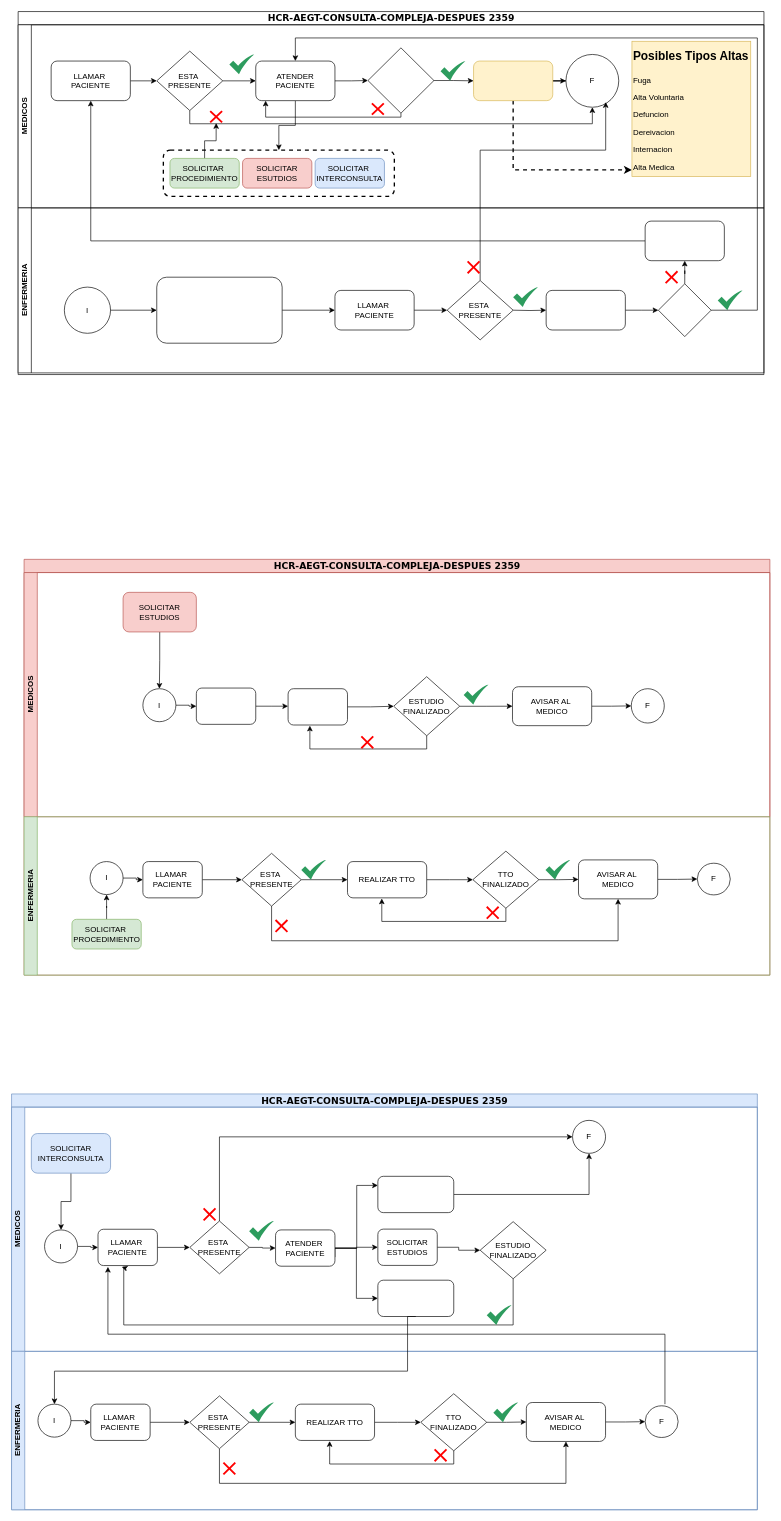
Some shapes in this 781 by 1521 pixel diagram are drawn without their labels. The shapes that lost their labels are listed below. From the top down, each one's box as (x1, y1, x2, y2) in pixels, then its label:
(367, 47, 434, 113): FINALIZA ATENCIÓN
(473, 60, 553, 101): FINALIZAR ATENCIÓN
(644, 220, 724, 261): ESPERAR ATENCION MEDICA
(156, 277, 282, 343): RECEPCIONAR PACIENTES ANOTAR MOTIVO DE CONSULTA REFERIDO POR EL PACIENTE
(545, 290, 625, 330): REALIZAR TRIAJE
(658, 283, 711, 337): Shocroom
(196, 687, 256, 724): SOLICITAR ESTUDIO
(287, 688, 347, 725): ESPERAR ESTUDIO
(377, 1176, 454, 1213): FINALIZA INTERCONSULTA
(377, 1280, 454, 1317): SOLICITAR PROCEDIMIENTOS
